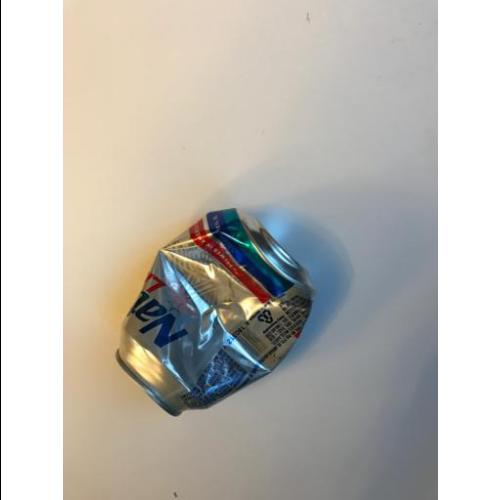metal: (116, 208, 317, 416)
